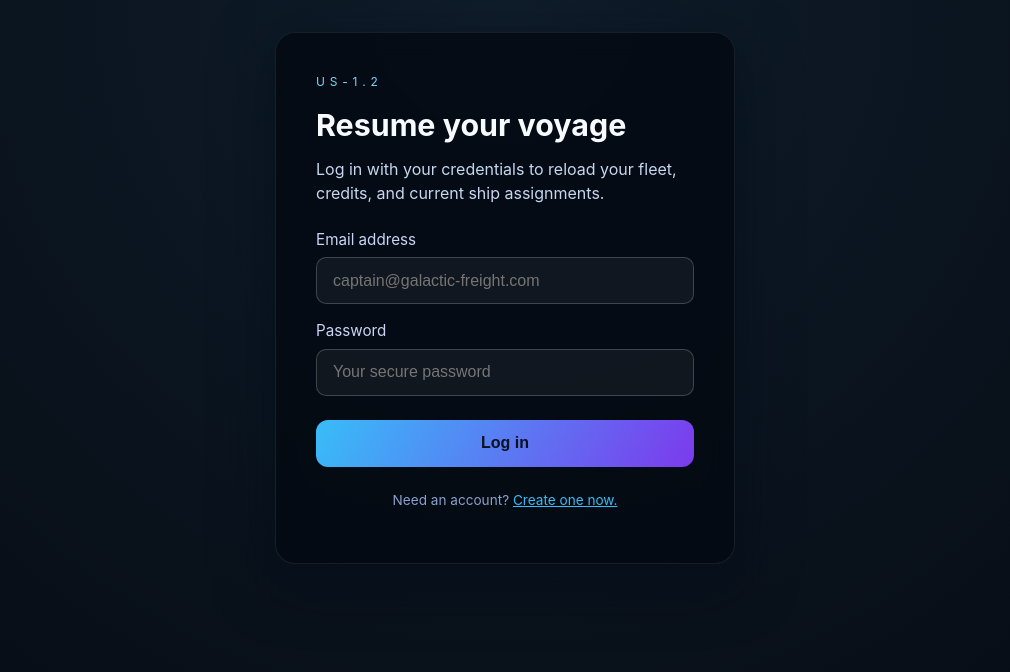
it: Registration flow › shows a success message when registration succeeds
The width and height of the screenshot is (1010, 672).
Click the button "Create one now." at (565, 500), box [513, 490, 617, 510]
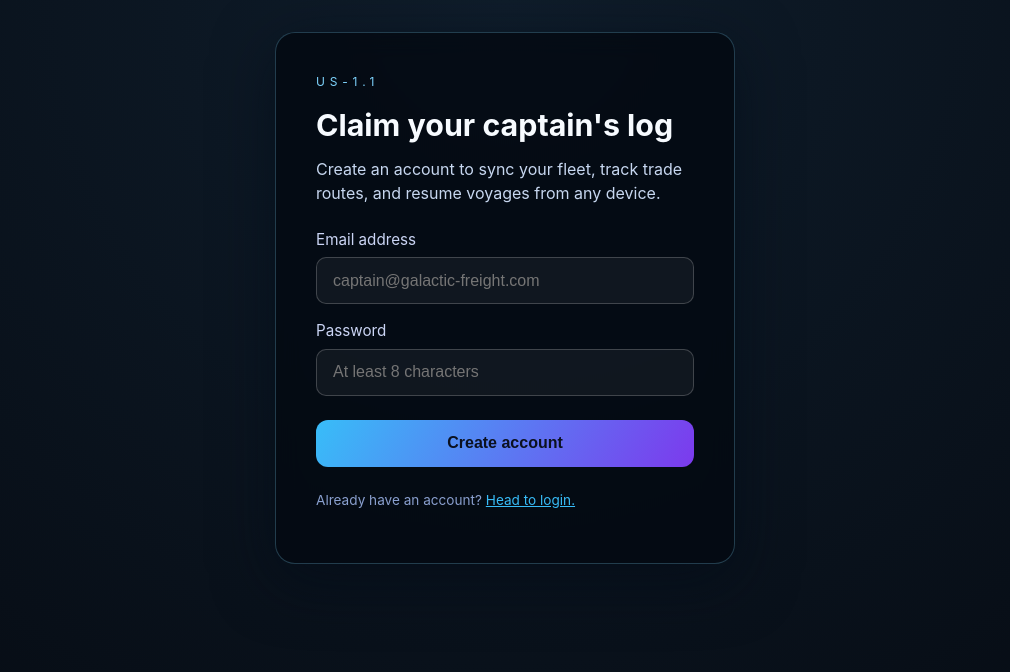
Type "pilot@example.com" into the field labelled "Email address" at (505, 281), box [316, 257, 694, 304]
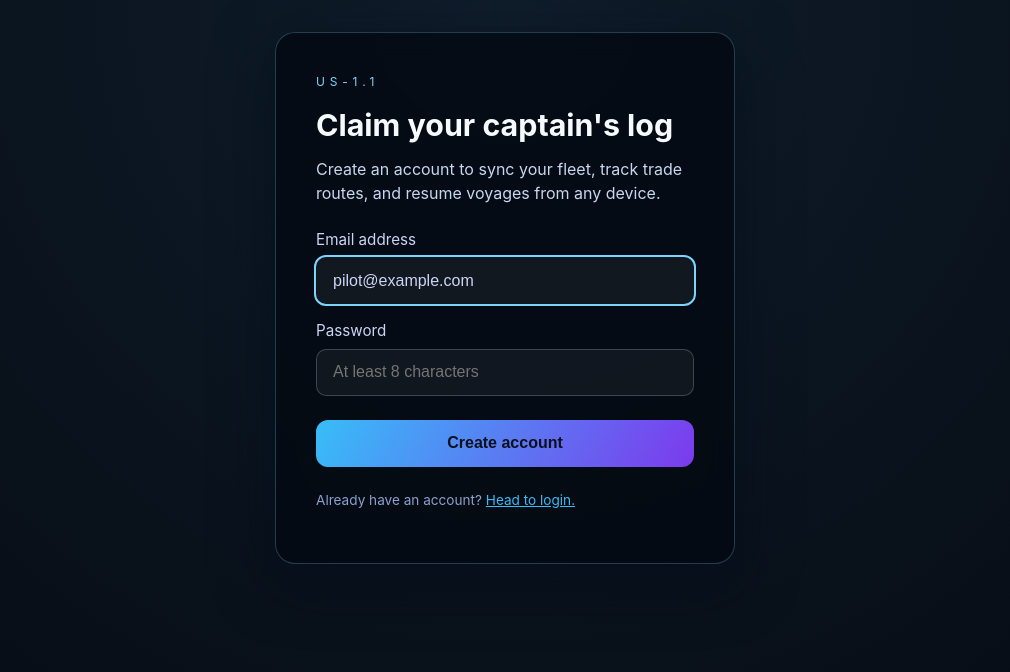
Type "secretpass" into the password field labelled "Password" at (505, 372), box [316, 349, 694, 396]
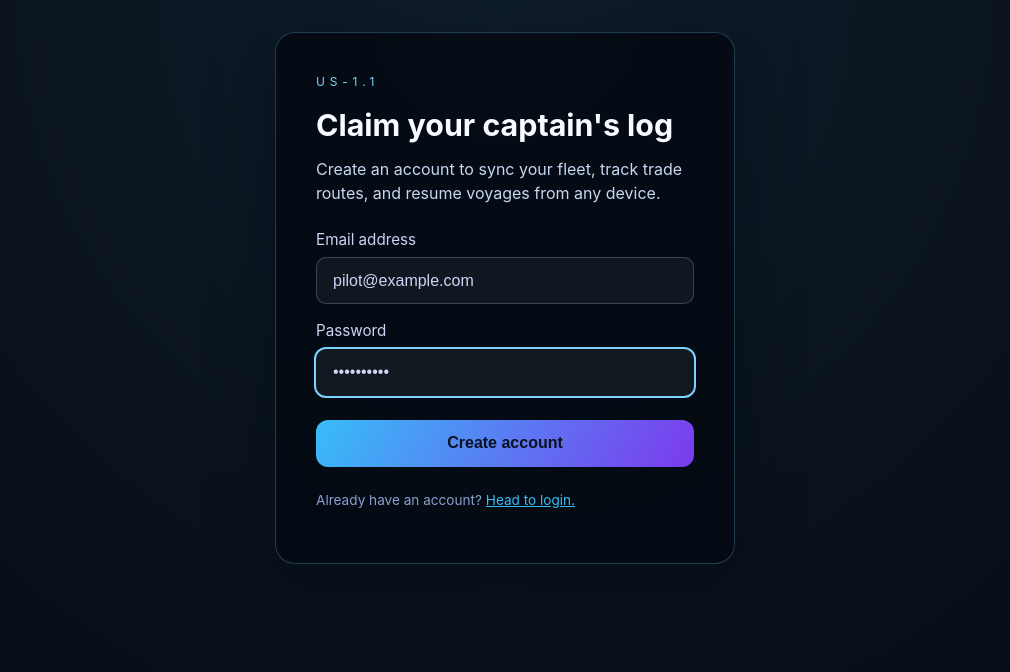
Click the button "Create account" at (505, 443), box [316, 420, 694, 467]
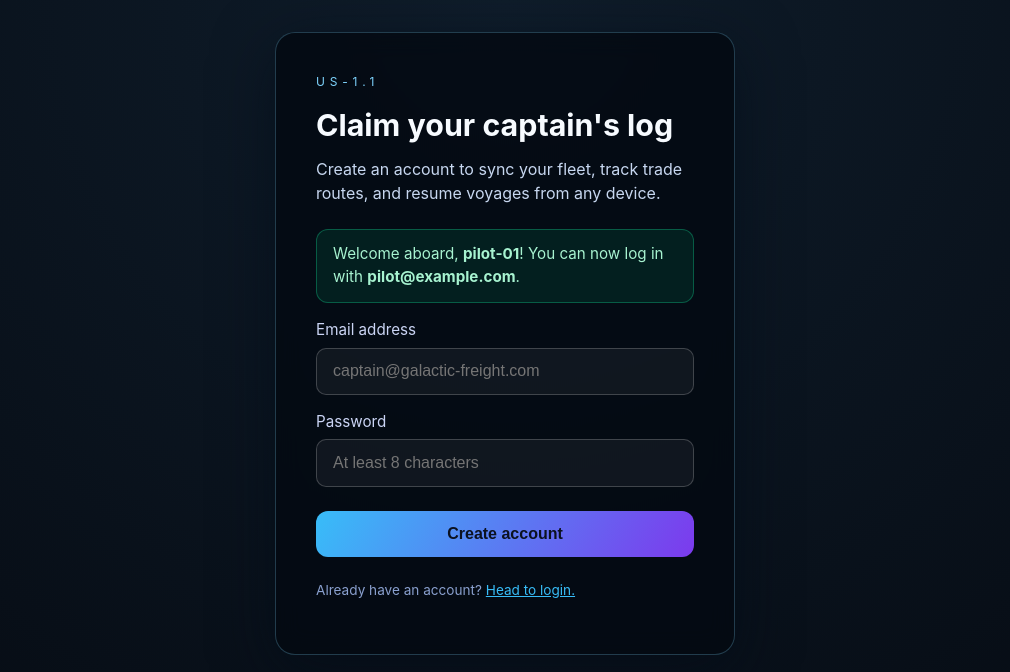
expect the message shows "pilot-01": met, box [463, 244, 519, 263]
